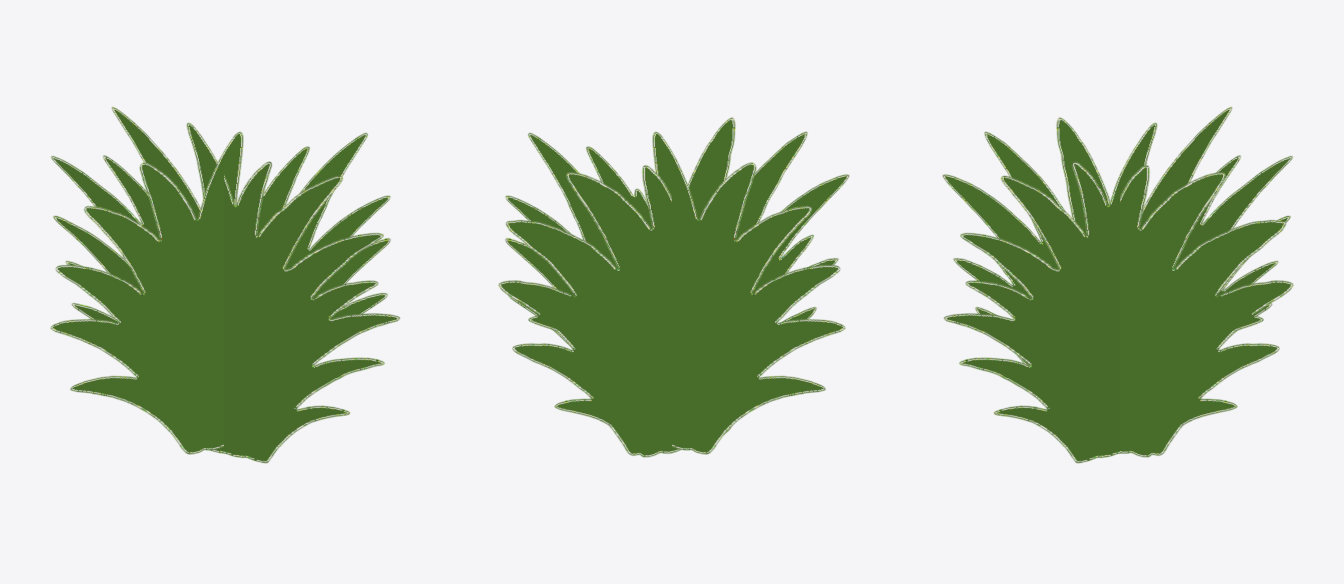
Rendered from grass_a.glb.
3 views of the same model, side by side, from view 1: azimuth 30°, elevation 25°; view 2: azimuth 150°, elevation 25°; view 3: azimuth 270°, elevation 25° (orthographic).
Visible parts, largest first — view 1: grass_a; view 2: grass_a; view 3: grass_a.
Boxes of the visible parts, bbox=[...] form: grass_a: bbox=[50, 106, 400, 463]; grass_a: bbox=[498, 117, 849, 457]; grass_a: bbox=[942, 106, 1293, 463].
Size of the model in its own units: 1 by 0.8 by 0.866.
1 material, 1 textured.
